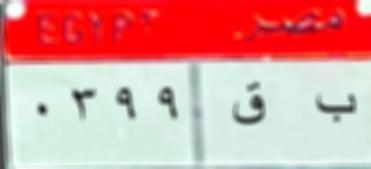0: (33, 95, 54, 124)
3: (65, 82, 101, 130)
9: (110, 81, 142, 128), (154, 84, 185, 128)
baa: (310, 88, 359, 128)
qaaf: (227, 82, 270, 132)
